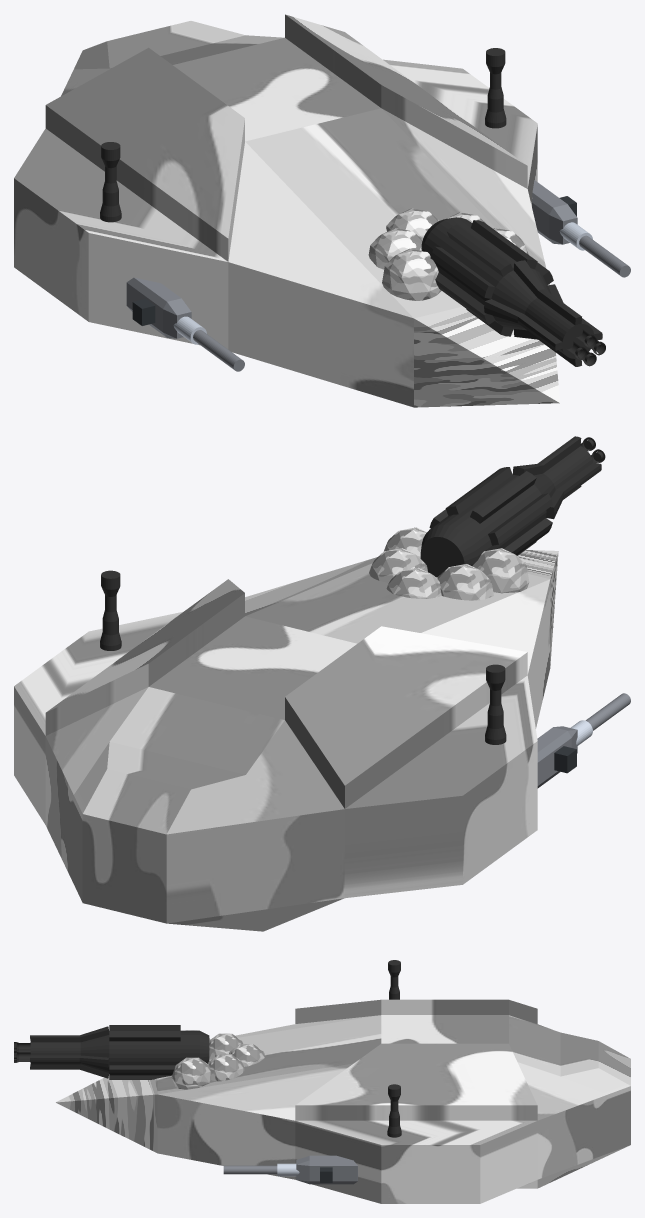
The model's file is machineGun.glb.
3 renders of one model, top to bottom at view 1: azimuth 30°, elevation 25°; view 2: azimuth 150°, elevation 25°; view 3: azimuth 270°, elevation 25°, orthographic. The views are drawn at different scales.
Visible parts, largest first — view 1: Cube, Cylinder.001, Icosphere.002, Cube.006, Cube.009, Cylinder.005, Cylinder.002, Icosphere.004, Icosphere.006, Cylinder.011, Cylinder.009, Cube.001; view 2: Cube, Cylinder.001, Icosphere.002, Icosphere.004, Cube.006, Cylinder.002, Cylinder.005, Icosphere.006, Icosphere.003, Icosphere.001; view 3: Cube, Cylinder.001, Cube.009, Icosphere.001, Icosphere.003, Cylinder.005, Icosphere.004, Icosphere.006, Cylinder.011, Cylinder.002.
Boxes of the visible parts, bbox=[...] form: Cube: bbox=[14, 14, 559, 407]; Cylinder.001: bbox=[421, 217, 605, 366]; Icosphere.002: bbox=[382, 248, 441, 300]; Cube.006: bbox=[126, 277, 191, 338]; Cube.009: bbox=[532, 180, 577, 244]; Cylinder.005: bbox=[485, 48, 506, 128]; Cylinder.002: bbox=[100, 142, 121, 222]; Icosphere.004: bbox=[368, 228, 422, 269]; Icosphere.006: bbox=[386, 208, 438, 239]; Cylinder.011: bbox=[579, 235, 630, 277]; Cylinder.009: bbox=[193, 330, 244, 371]; Cube.001: bbox=[132, 299, 155, 325]; Cube: bbox=[14, 550, 558, 931]; Cylinder.001: bbox=[420, 436, 605, 577]; Icosphere.002: bbox=[472, 548, 529, 593]; Icosphere.004: bbox=[437, 564, 493, 600]; Cube.006: bbox=[537, 726, 577, 788]; Cylinder.002: bbox=[485, 664, 506, 744]; Cylinder.005: bbox=[100, 570, 121, 650]; Icosphere.006: bbox=[386, 567, 441, 598]; Icosphere.003: bbox=[369, 548, 427, 582]; Icosphere.001: bbox=[384, 527, 426, 558]; Cube: bbox=[55, 999, 630, 1203]; Cylinder.001: bbox=[14, 1025, 209, 1079]; Cube.009: bbox=[296, 1155, 357, 1184]; Icosphere.001: bbox=[171, 1057, 211, 1089]; Icosphere.003: bbox=[208, 1054, 244, 1081]; Cylinder.005: bbox=[387, 1084, 401, 1137]; Icosphere.004: bbox=[209, 1033, 243, 1059]; Icosphere.006: bbox=[229, 1044, 264, 1066]; Cylinder.011: bbox=[223, 1165, 277, 1174]; Cylinder.002: bbox=[388, 960, 400, 999].
Size of the model in its own units: 6 by 2.8 by 10.79.
Materials: 5 (1 with a texture image).
